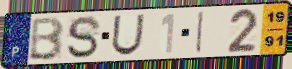1: (160, 13, 176, 55)
2: (228, 7, 260, 55)
B: (27, 15, 66, 61)
I: (194, 10, 206, 55)
S: (66, 14, 103, 60)
U: (109, 14, 146, 58)
